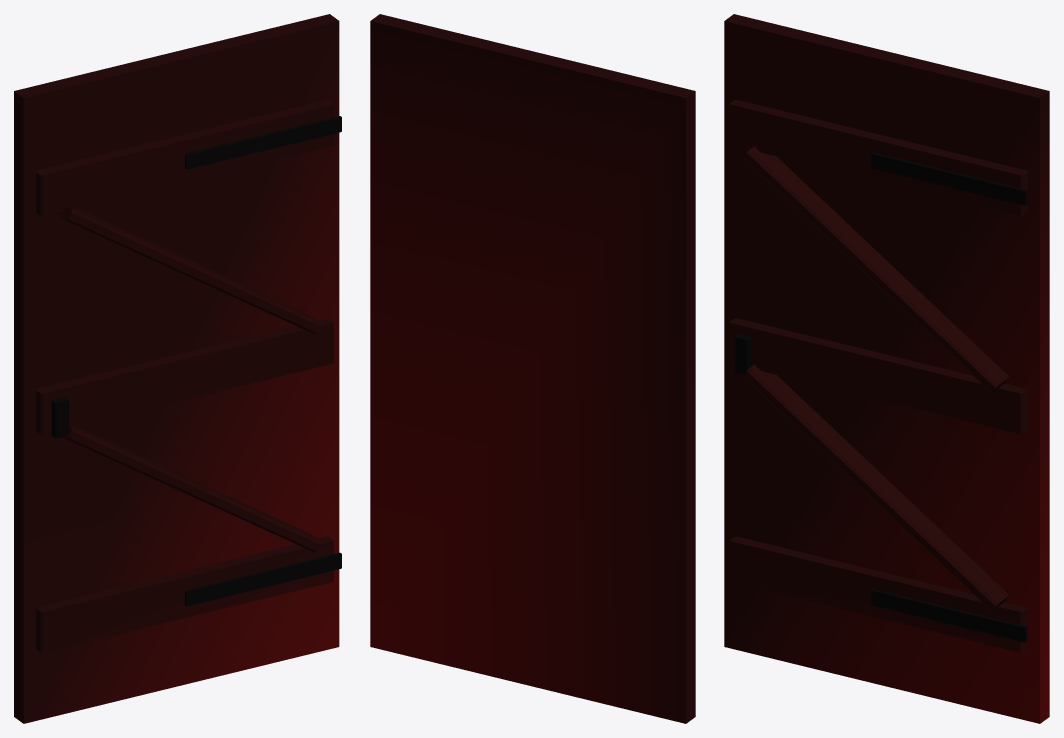
Rendered from SilverbrookWorkshop_Door2.fbx.
The picture shows the model from 3 angles, left to right: view 1: azimuth 30°, elevation 25°; view 2: azimuth 150°, elevation 25°; view 3: azimuth 330°, elevation 25°; orthographic projection.
Visible parts, largest first — view 1: SM_SBWorkshop_Door2_Part; view 2: SM_SBWorkshop_Door2_Part; view 3: SM_SBWorkshop_Door2_Part.
Boxes of the visible parts, <box> form: SM_SBWorkshop_Door2_Part: <box>14,14,341,723</box>; SM_SBWorkshop_Door2_Part: <box>370,14,695,723</box>; SM_SBWorkshop_Door2_Part: <box>724,14,1049,723</box>.
Size of the model in its own units: 113 by 215 by 14.
